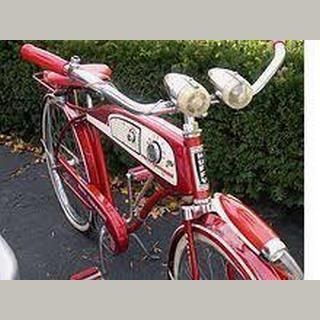Bike: (23, 45, 304, 279)
